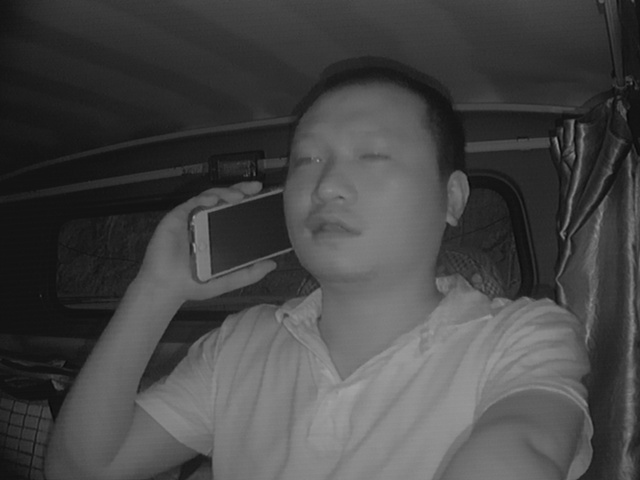hand: (145, 180, 275, 303)
